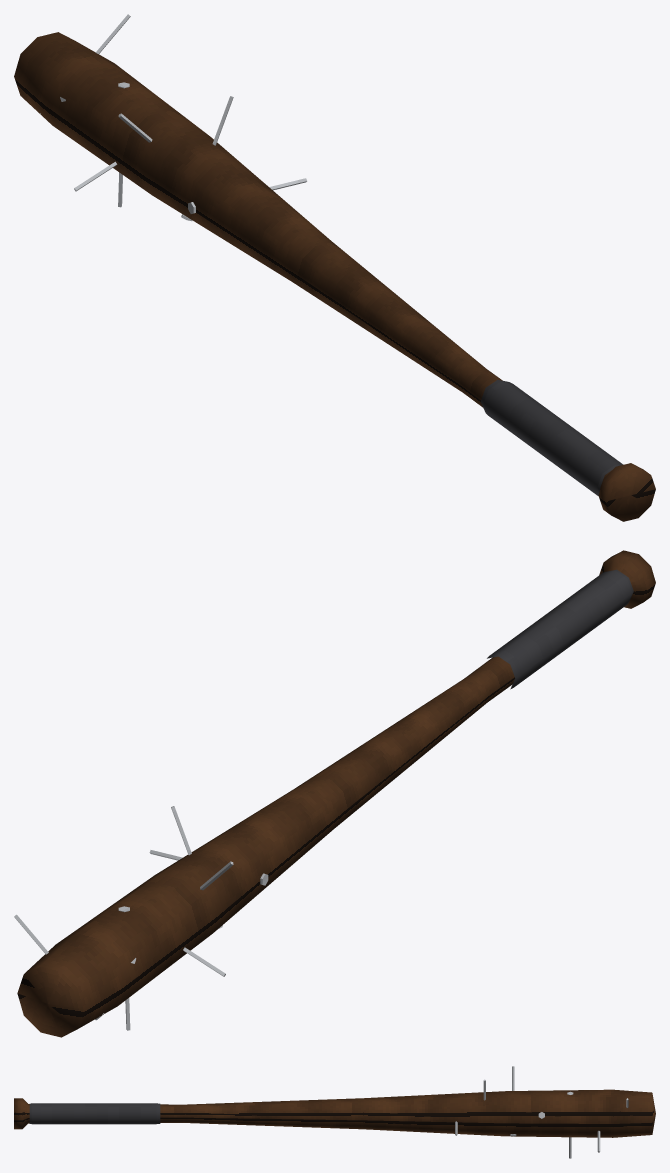
File: item_bat.glb
3 views of the same model, one above another, from view 1: azimuth 30°, elevation 25°; view 2: azimuth 150°, elevation 25°; view 3: azimuth 270°, elevation 25° (orthographic). The views are drawn at different scales.
Visible parts, largest first — view 1: bat; view 2: bat; view 3: bat.
Part boxes in pixels (<box>): bat: <box>14,14,655,521</box>; bat: <box>14,550,655,1037</box>; bat: <box>14,1066,655,1158</box>.
Bounding box in the file's own units: 0.136 × 0.1352 × 0.9.
3 materials, 3 textured.
